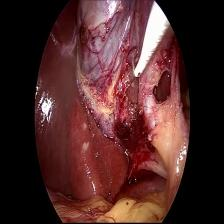Hook: (128, 1, 170, 80)
